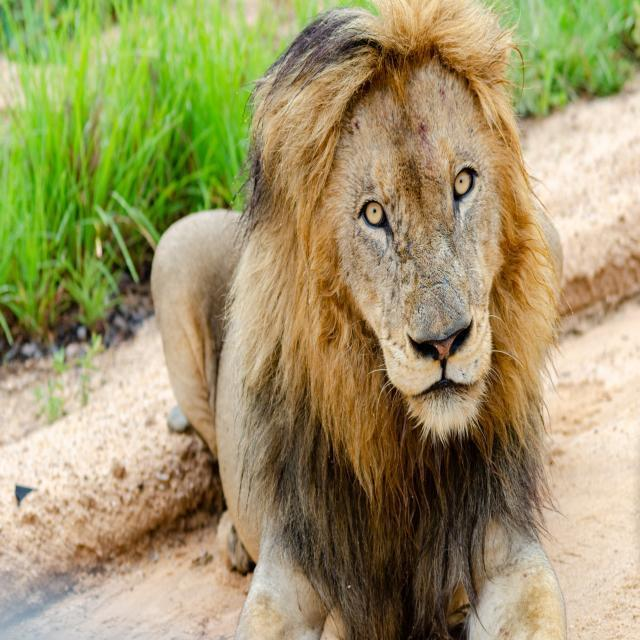lions: (63, 18, 640, 639)
